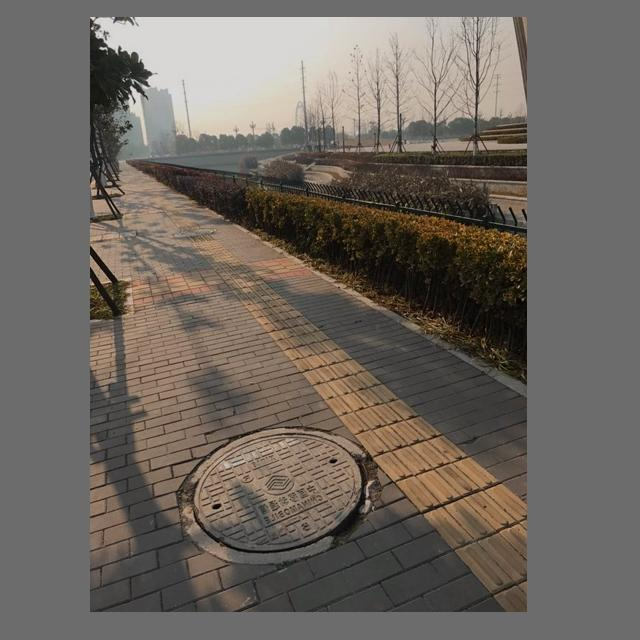circle: (175, 426, 381, 564)
